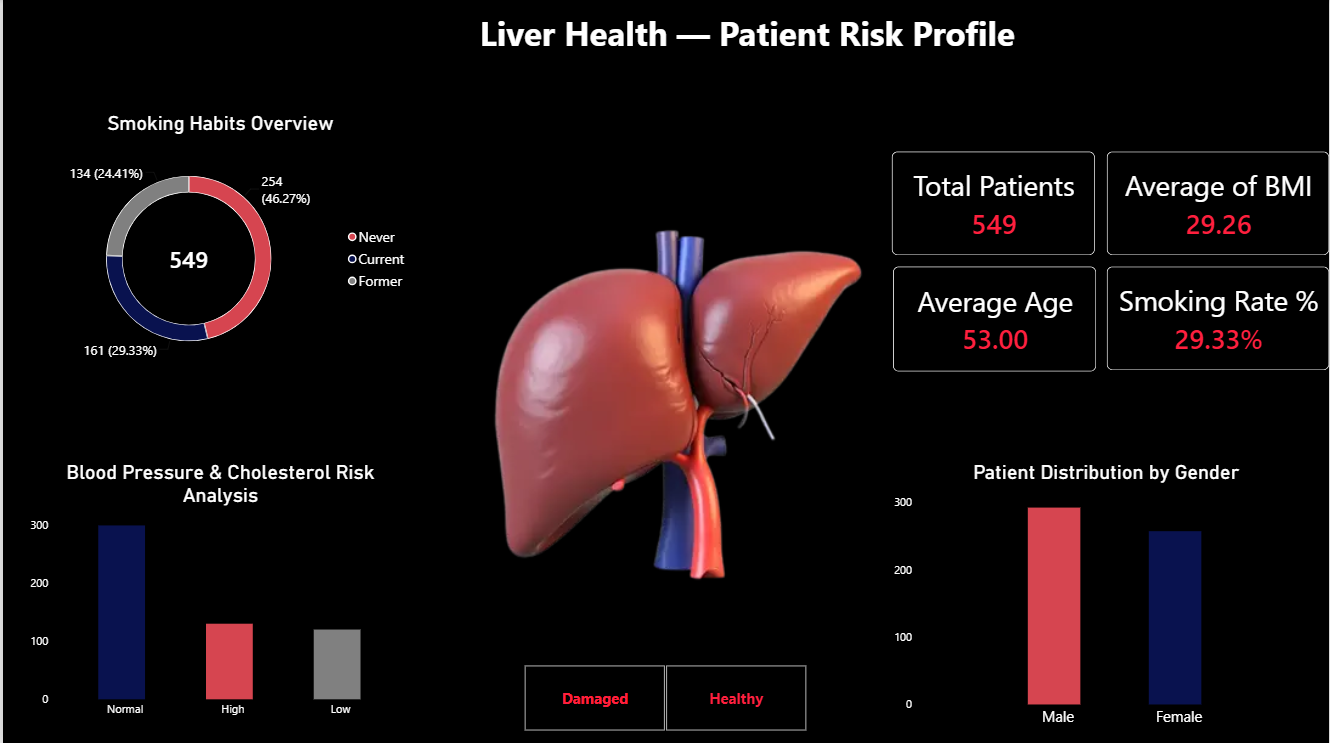

Layout of this report page (visuals, bound fields, positions):
{"tool":"powerbi","page":{"name":"liver","canvas":[1920,1080],"ordinal":5},"visuals":[{"type":"image","box":[628,258.8,689.5,633.4],"z":0},{"type":"donutChart","title":"Smoking Habits Overview","fields":{"Category":["HealthData.Smoking_Status"],"Y":["CountNonNull(HealthData.Patient_ID)"]},"box":[23.5,148.4,582.7,407.2],"z":1000},{"type":"clusteredColumnChart","title":"Patient Distribution by Gender","fields":{"Category":["HealthData.Gender"],"Y":["CountNonNull(HealthData.Patient_ID)"]},"box":[1274,653.3,646,421.7],"z":2000},{"type":"clusteredColumnChart","title":"Blood Pressure & Cholesterol Risk Analysis","fields":{"Category":["HealthData.BP_Risk"],"Y":["CountNonNull(HealthData.Patient_ID)"]},"box":[23.5,653.3,582.7,407.2],"z":3000},{"type":"textbox","box":[235.3,16.3,1684.8,83.2],"z":3001},{"type":"cardVisual","fields":{"Data":["HealthData.Total Patients"]},"box":[1286.7,220.8,295,150.2],"z":3002},{"type":"cardVisual","fields":{"Data":["HealthData.Average Age"]},"box":[1288.5,387.3,295,152],"z":3003},{"type":"cardVisual","fields":{"Data":["Avg(HealthData.BMI)"]},"box":[1597.9,220.8,322.1,150.2],"z":3004},{"type":"cardVisual","fields":{"Data":["HealthData.Smoking Rate %"]},"box":[1597.9,387.3,322.1,150.2],"z":3005},{"type":"slicer","fields":{"Values":["HealthData.Organ_Condition"]},"box":[734.7,962.7,447,97.7],"z":3006}]}

Visuals, with their boxes in screenshot pixels (x1, y1, x2, y2), scaled from the page's 1920x1080 canvas onto the 1330x743 screenshot:
image: <bbox>435, 178, 913, 614</bbox>
"Smoking Habits Overview" donutChart: <bbox>16, 102, 420, 382</bbox>
"Patient Distribution by Gender" clusteredColumnChart: <bbox>883, 449, 1329, 740</bbox>
"Blood Pressure & Cholesterol Risk Analysis" clusteredColumnChart: <bbox>16, 449, 420, 730</bbox>
textbox: <bbox>163, 11, 1329, 68</bbox>
cardVisual - HealthData.Total Patients: <bbox>891, 152, 1096, 255</bbox>
cardVisual - HealthData.Average Age: <bbox>893, 266, 1097, 371</bbox>
cardVisual - Avg(HealthData.BMI): <bbox>1107, 152, 1329, 255</bbox>
cardVisual - HealthData.Smoking Rate %: <bbox>1107, 266, 1329, 370</bbox>
slicer - HealthData.Organ_Condition: <bbox>509, 662, 819, 730</bbox>
